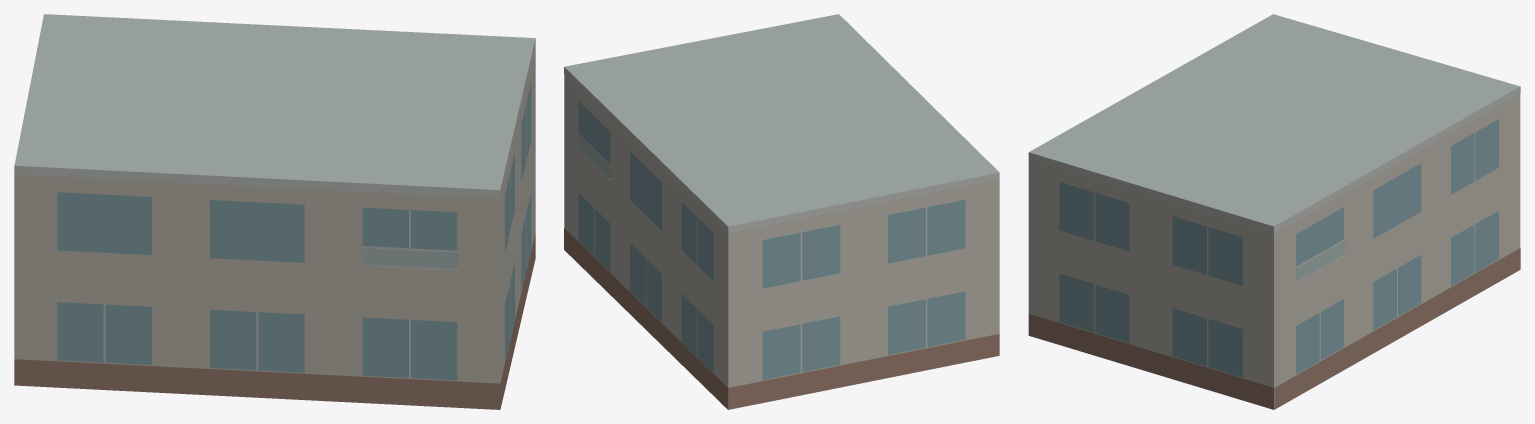
File: survey-upis-33025178.glb
The picture shows the model from 3 angles, left to right: view 1: azimuth 30°, elevation 25°; view 2: azimuth 150°, elevation 25°; view 3: azimuth 270°, elevation 25°; orthographic projection. The views are drawn at different scales.
Parts seen in each view (by area): view 1: survey-upis-33025178.tmp; view 2: survey-upis-33025178.tmp; view 3: survey-upis-33025178.tmp.
Boxes of the visible parts, x1,y1,x2,y2 form: survey-upis-33025178.tmp: (14, 14, 535, 409); survey-upis-33025178.tmp: (564, 14, 999, 409); survey-upis-33025178.tmp: (1028, 14, 1520, 409).
Bounding box in the file's own units: 15.17 × 6.1 × 14.84.
